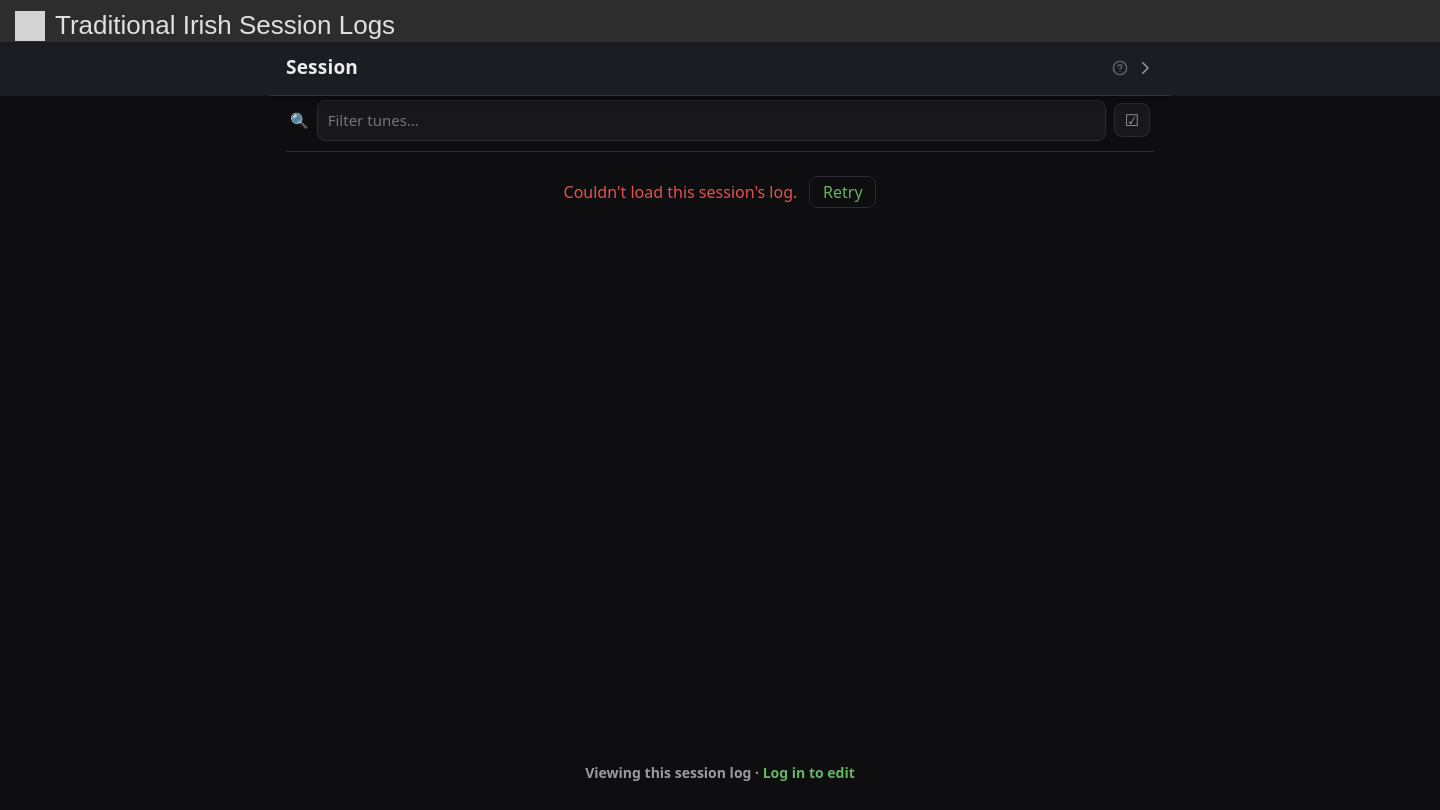
Scenario: live screen, first load fails › says the log could not be loaded (never "No tunes yet"), and Retry loads it
Check: the message "Couldn't load this session's log. Retry" is shown, box [564,176,876,208]
Check: the message with class "kit-load-error" shows "Couldn't load this session's log.", box [564,181,797,203]
Click the button with class "kit-load-retry": (843, 192) [809,176,876,208]
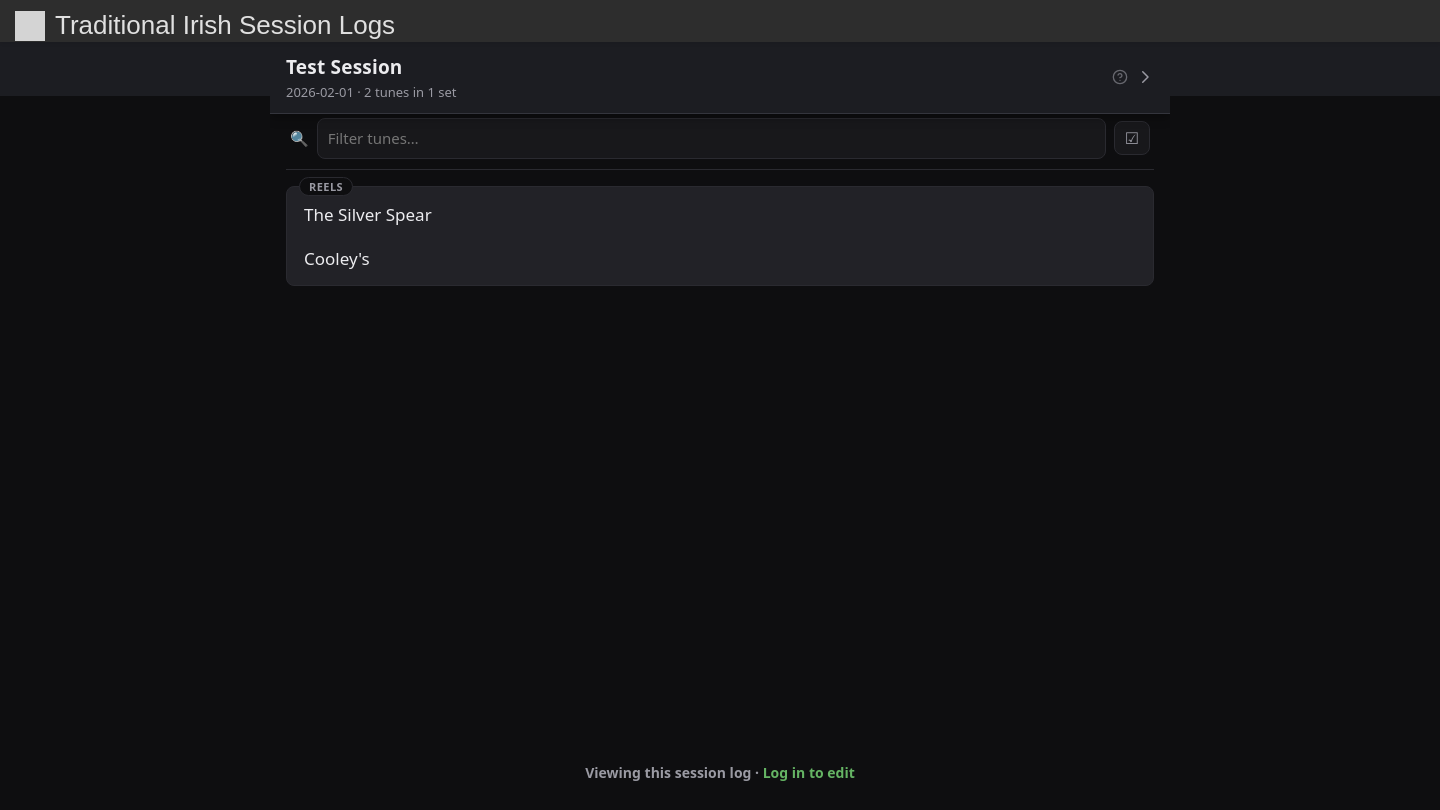
Check: the number of elements with class "name" is 2, box [304,203,432,226]; [304,247,370,270]
Check: the message with class "kit-load-error" is gone
